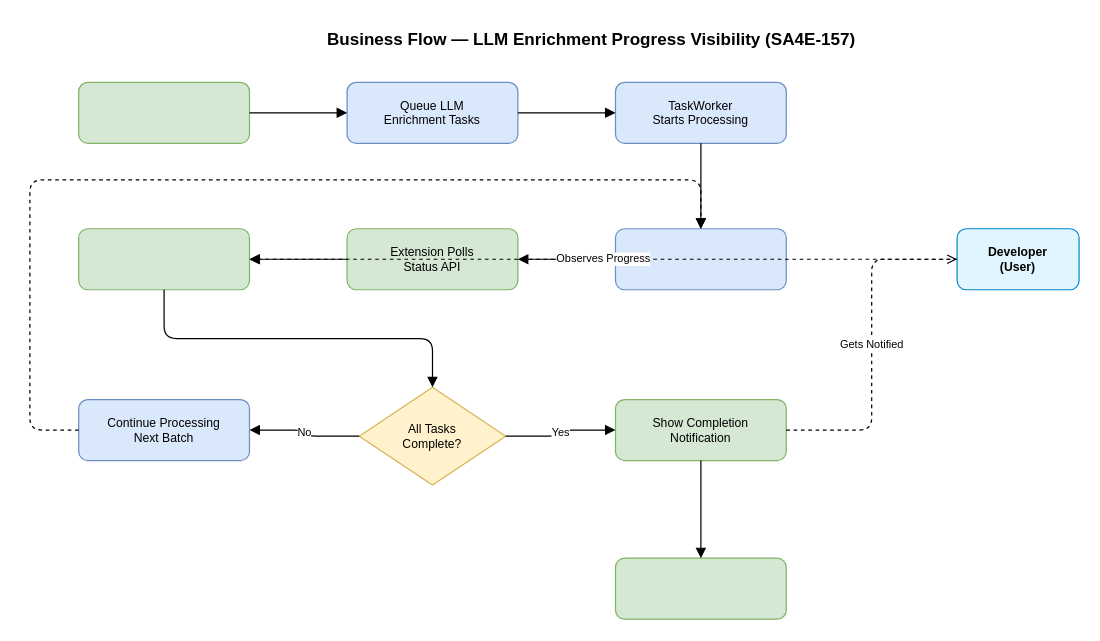
This 1100x641 diagram has some shape labels left out. The box of each missing label's shape, as (x1, y1, x2, y2) in pixels:
Backend Tracks Progress State: (614, 228, 786, 290)
Pega Indexing Completes: (77, 81, 249, 143)
Status Bar → Idle KB Ready: (614, 557, 786, 619)
Update UI Progress Indicator: (77, 228, 249, 290)
